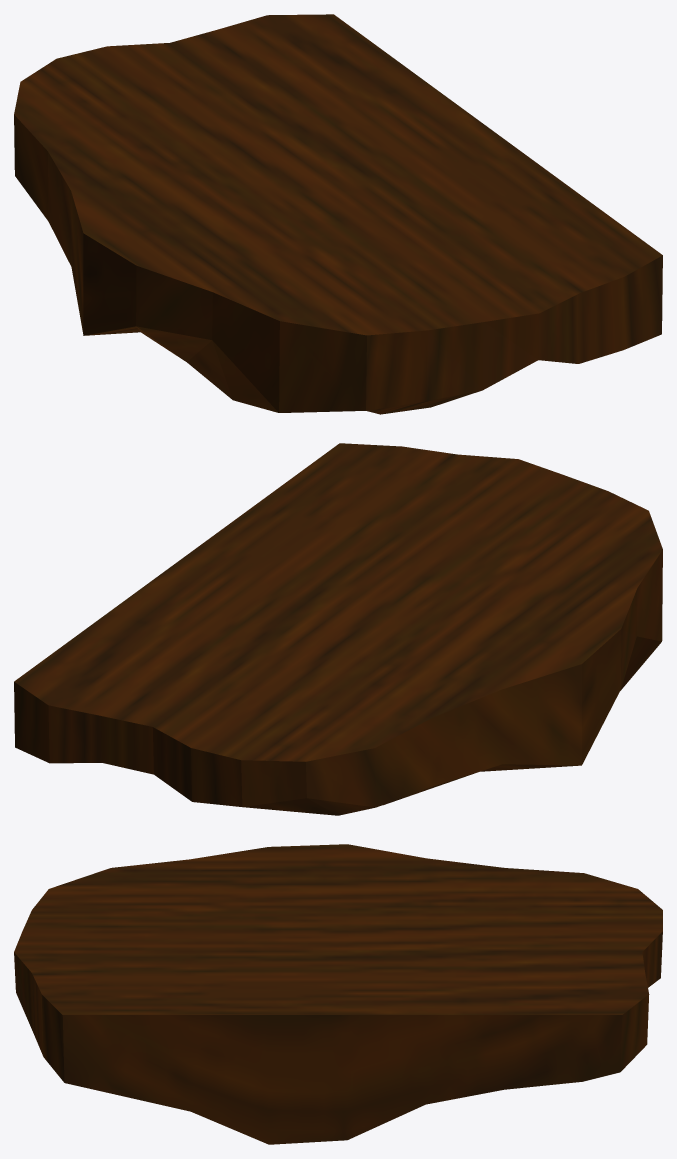
Rendered from fireplacemantel.obj.
3 renders of one model, top to bottom at view 1: azimuth 30°, elevation 25°; view 2: azimuth 150°, elevation 25°; view 3: azimuth 270°, elevation 25°, orthographic. The views are drawn at different scales.
Parts seen in each view (by area): view 1: Plane.000; view 2: Plane.000; view 3: Plane.000.
Part boxes in pixels (x1,y1,x2,y2): Plane.000: [14, 14, 662, 414]; Plane.000: [14, 443, 662, 815]; Plane.000: [14, 844, 662, 1144].
Size of the model in its own units: 0.6917 by 0.2521 by 1.11.
